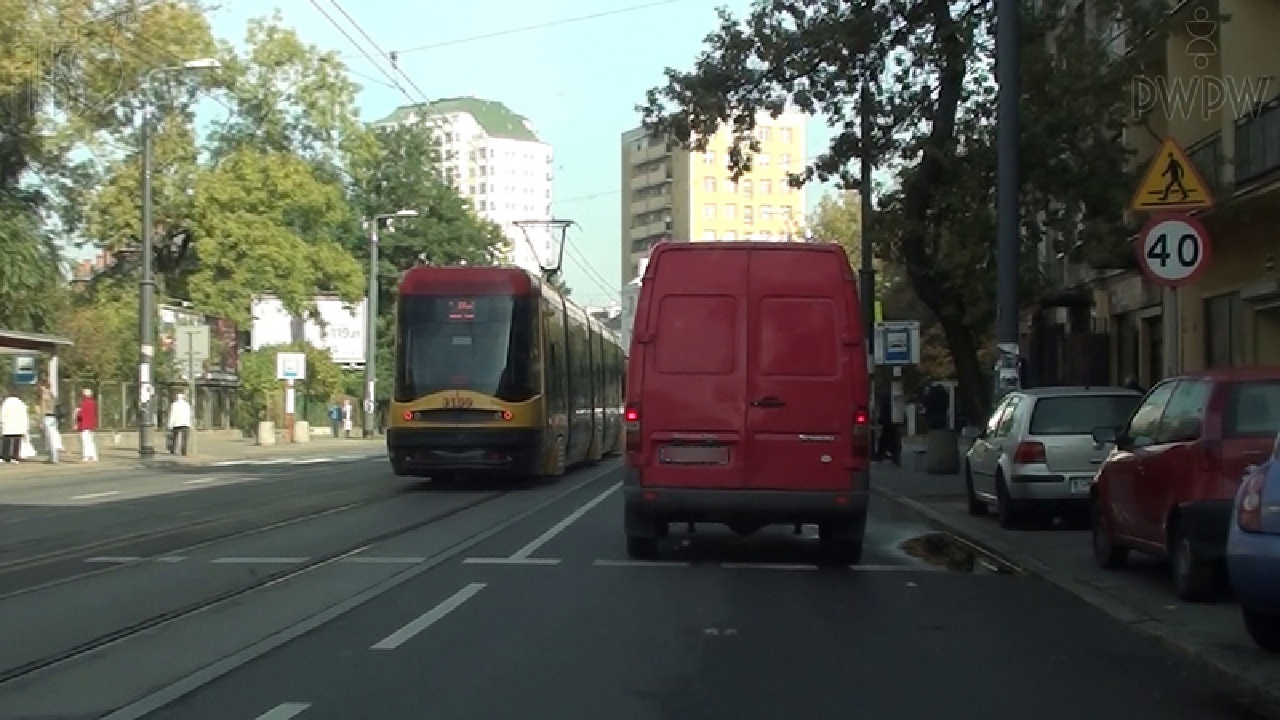A16: (1126, 131, 1223, 209)
B33_40: (1135, 211, 1210, 283)
